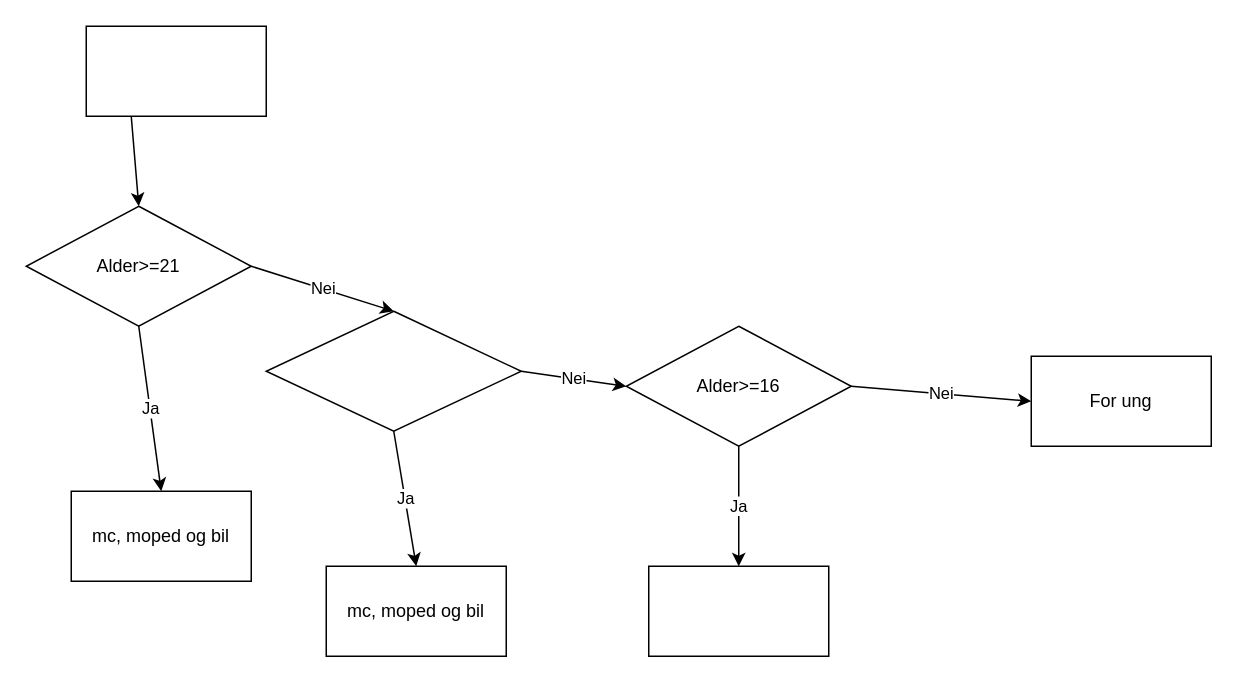
The diagram is 1238 pixels wide and 683 high, and some of its shapes have lost their labels. The centre of each missing label's shape, as x and y in pixels:
"Alder>=18" belongs at pixel 393 370.
"Input alder" belongs at pixel 175 70.
"Lett mc og moped" belongs at pixel 738 610.
